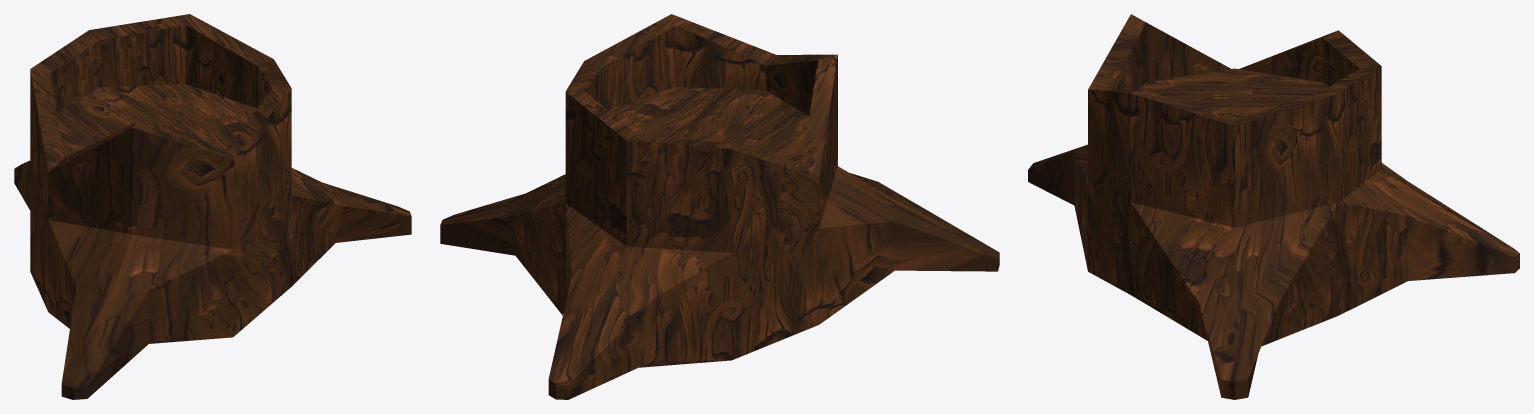
File: STUMP.fbx
3 views of the same model, side by side, from view 1: azimuth 30°, elevation 25°; view 2: azimuth 150°, elevation 25°; view 3: azimuth 270°, elevation 25° (orthographic). The views are drawn at different scales.
Visible parts, largest first — view 1: Tree_stump; view 2: Tree_stump; view 3: Tree_stump.
Boxes of the visible parts, x1,y1,x2,y2 form: Tree_stump: (14,14,411,399); Tree_stump: (440,14,999,399); Tree_stump: (1028,14,1519,399).
Size of the model in its own units: 1.9 by 0.9537 by 1.81.
1 material, 1 textured.
